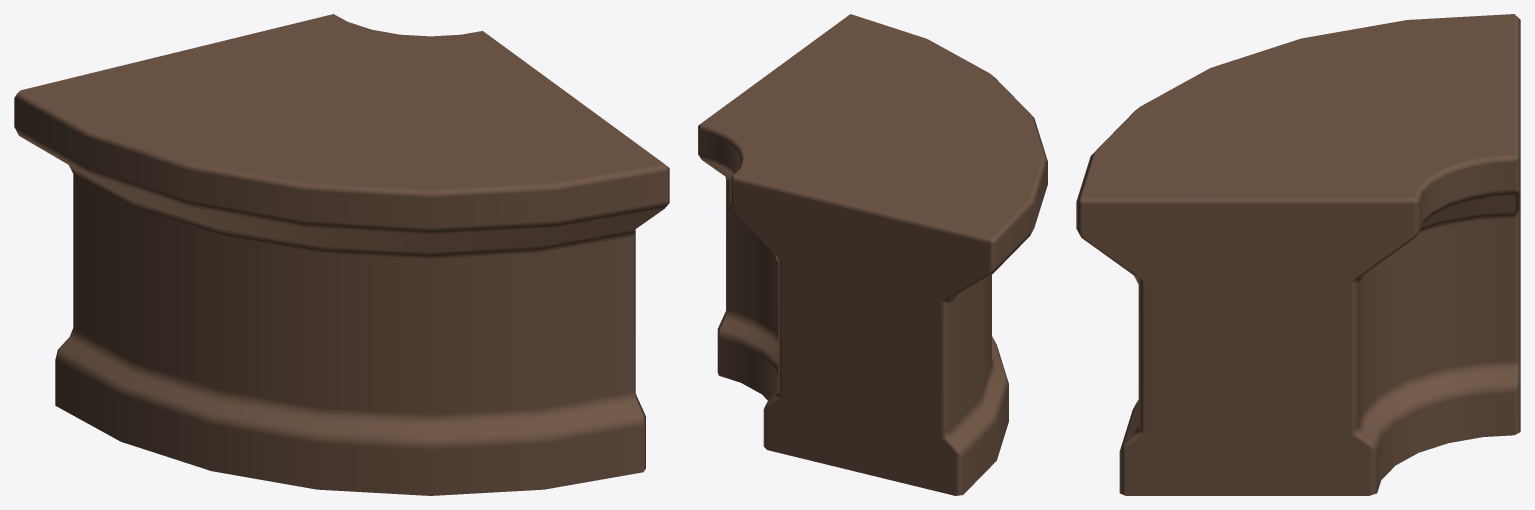
Rendered from TablonEsquina.glb.
The picture shows the model from 3 angles, left to right: view 1: azimuth 30°, elevation 25°; view 2: azimuth 150°, elevation 25°; view 3: azimuth 270°, elevation 25°; orthographic projection. The views are drawn at different scales.
Visible parts, largest first — view 1: Tablon_02; view 2: Tablon_02; view 3: Tablon_02.
Boxes of the visible parts, x1,y1,x2,y2 form: Tablon_02: [14, 14, 669, 495]; Tablon_02: [698, 14, 1047, 495]; Tablon_02: [1076, 14, 1520, 495].
Bounding box in the file's own units: 1.4 × 1.03 × 1.4.
